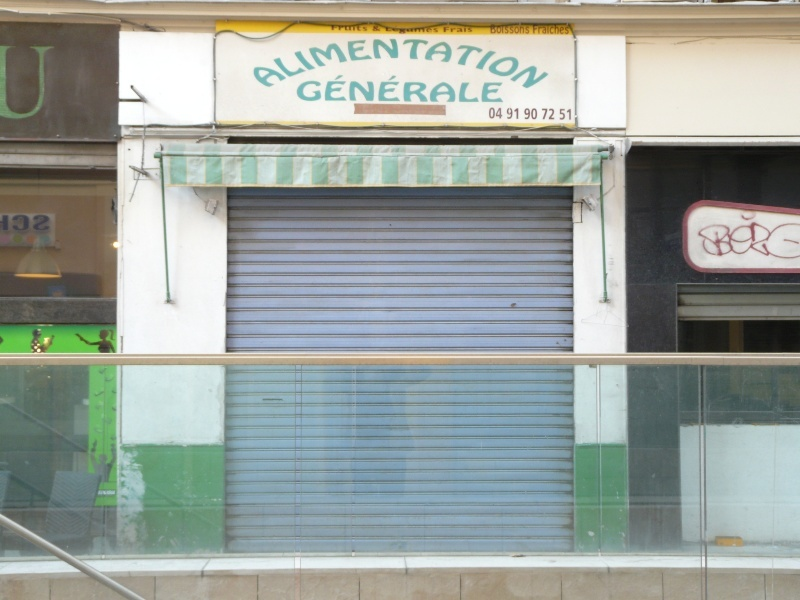text: (1, 45, 16, 121), (17, 45, 32, 121), (33, 45, 48, 121), (705, 207, 720, 262), (721, 207, 736, 262), (737, 207, 752, 262), (753, 207, 768, 262), (769, 207, 784, 262), (785, 207, 800, 262), (257, 39, 272, 90), (273, 39, 288, 90), (289, 39, 304, 90), (305, 39, 320, 90), (321, 39, 336, 90), (337, 39, 352, 90), (353, 39, 368, 90), (369, 39, 384, 90), (385, 39, 400, 90), (401, 39, 416, 90), (417, 39, 432, 90), (433, 39, 448, 90), (449, 39, 464, 90), (465, 39, 480, 90), (481, 39, 496, 90), (497, 39, 512, 90), (513, 39, 528, 90), (529, 39, 544, 90), (305, 75, 320, 104), (321, 75, 336, 104), (337, 75, 352, 104), (353, 75, 368, 104), (369, 75, 384, 104), (385, 75, 400, 104), (401, 75, 416, 104), (417, 75, 432, 104), (433, 75, 448, 104), (449, 75, 464, 104), (465, 75, 480, 104), (481, 75, 496, 104), (49, 45, 54, 121), (698, 207, 704, 262), (1, 214, 16, 232), (17, 214, 32, 232), (33, 214, 48, 232), (545, 39, 550, 90), (497, 75, 504, 104), (545, 24, 560, 35), (497, 24, 512, 34), (513, 24, 528, 34), (385, 25, 400, 35), (401, 25, 416, 35), (417, 25, 432, 35), (353, 24, 369, 33), (545, 108, 556, 121), (337, 24, 352, 33), (561, 108, 572, 120), (533, 24, 544, 35), (449, 25, 464, 33), (300, 75, 304, 104), (529, 108, 538, 120), (561, 24, 570, 35), (373, 24, 384, 33), (489, 108, 496, 120), (497, 108, 504, 120), (513, 108, 520, 120), (465, 25, 475, 33), (433, 25, 440, 35), (490, 24, 496, 34), (507, 108, 512, 120), (523, 108, 528, 120), (255, 39, 256, 90), (331, 24, 336, 33), (541, 108, 544, 121), (49, 214, 51, 232), (444, 25, 448, 33), (529, 24, 530, 34)
